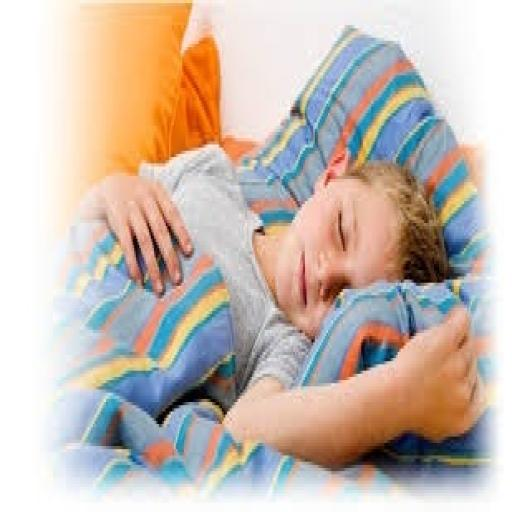sleeping: (70, 138, 488, 471)
